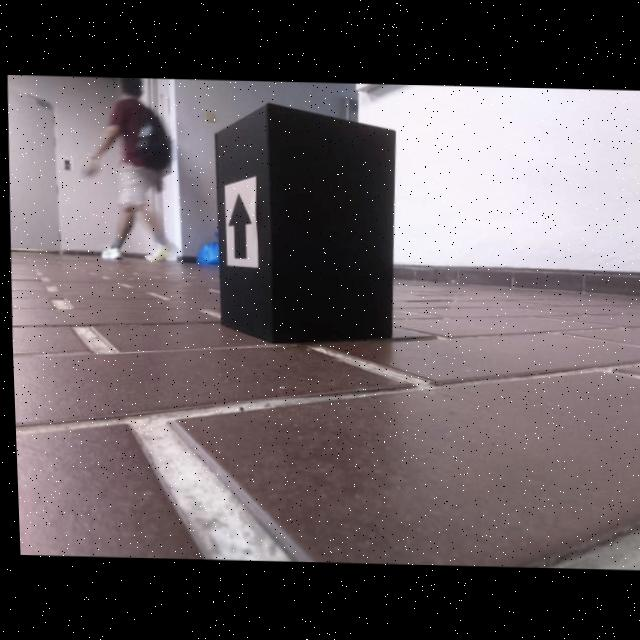UP: (226, 191, 252, 259)
